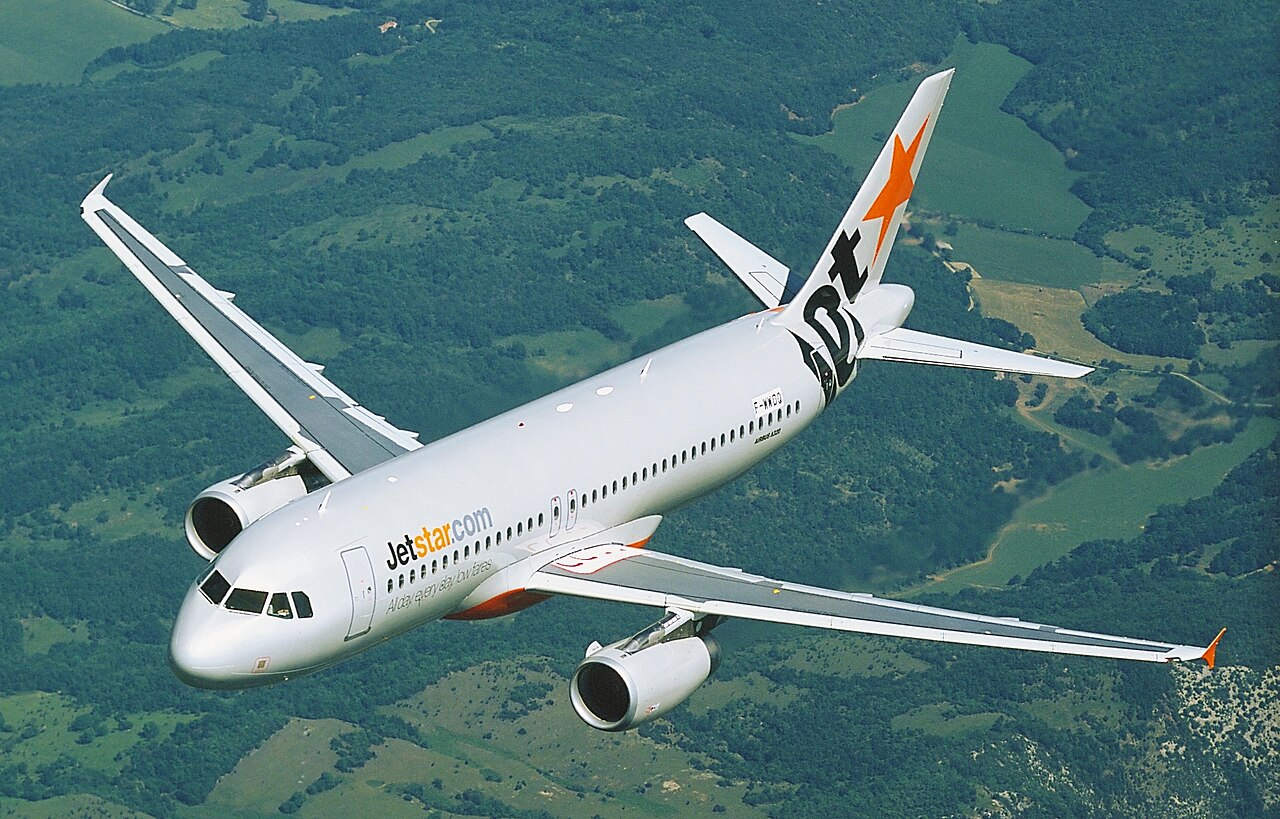aircraft: (74, 66, 1229, 731)
